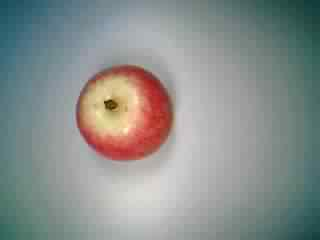apple: (70, 60, 174, 164)
